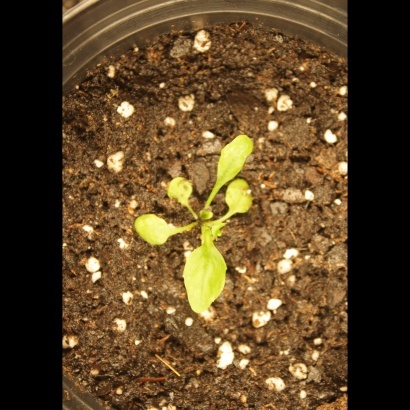leaf: (183, 243, 234, 317), (210, 129, 256, 195), (127, 210, 177, 252), (221, 177, 263, 216), (165, 169, 195, 210)
